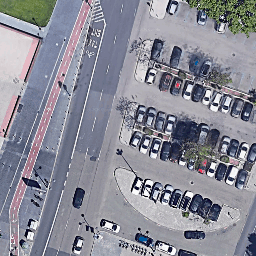car: (99, 217, 121, 234), (154, 239, 177, 255), (134, 232, 155, 247), (170, 45, 182, 70), (72, 187, 86, 208), (72, 236, 86, 255), (145, 104, 156, 128), (208, 128, 219, 151), (174, 121, 187, 140), (150, 137, 161, 159), (161, 185, 173, 205), (152, 38, 163, 59), (160, 72, 172, 91), (208, 205, 223, 220), (210, 94, 223, 111), (170, 76, 181, 96), (182, 79, 193, 99), (232, 97, 243, 117), (237, 168, 247, 190), (227, 164, 237, 186), (145, 67, 157, 85), (205, 159, 217, 177), (187, 123, 199, 141), (172, 187, 182, 208), (219, 135, 230, 154), (130, 131, 143, 147), (242, 103, 254, 120), (140, 136, 152, 153), (166, 115, 176, 135), (160, 140, 170, 160), (192, 193, 202, 213), (200, 124, 209, 146), (132, 178, 144, 194), (135, 104, 145, 123), (182, 191, 192, 210), (222, 96, 233, 113), (171, 143, 180, 163), (142, 181, 153, 197), (201, 198, 212, 214), (193, 84, 202, 103), (216, 161, 225, 180), (198, 155, 207, 174), (239, 142, 249, 159), (167, 1, 180, 14), (218, 15, 227, 33), (157, 111, 165, 131), (203, 85, 211, 105), (184, 231, 204, 239), (229, 140, 239, 156), (178, 248, 198, 256), (152, 184, 161, 201), (249, 142, 256, 163), (188, 155, 196, 170), (198, 10, 206, 24), (180, 149, 187, 165)
